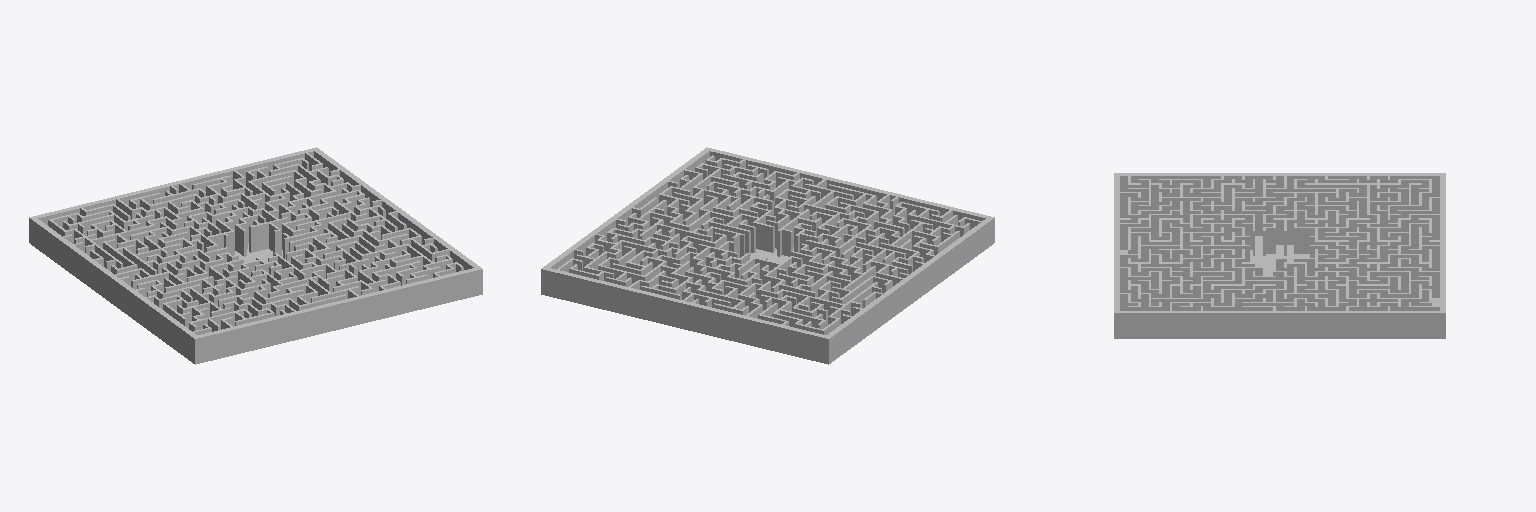
The model's file is maze.obj.
3 renders of one model, left to right at view 1: azimuth 30°, elevation 25°; view 2: azimuth 150°, elevation 25°; view 3: azimuth 270°, elevation 25°, orthographic.
Visible parts, largest first — view 1: Plane; view 2: Plane; view 3: Plane.
Part boxes in pixels (bbox=[...]): Plane: bbox=[29, 147, 482, 364]; Plane: bbox=[541, 147, 994, 364]; Plane: bbox=[1114, 173, 1445, 338].
Size of the model in its own units: 120 by 10.17 by 120.